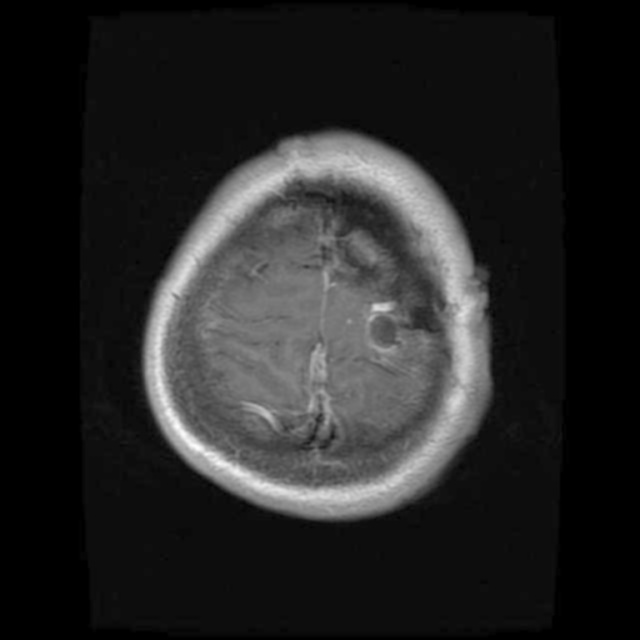pituitary tumor: (365, 302, 401, 353)
